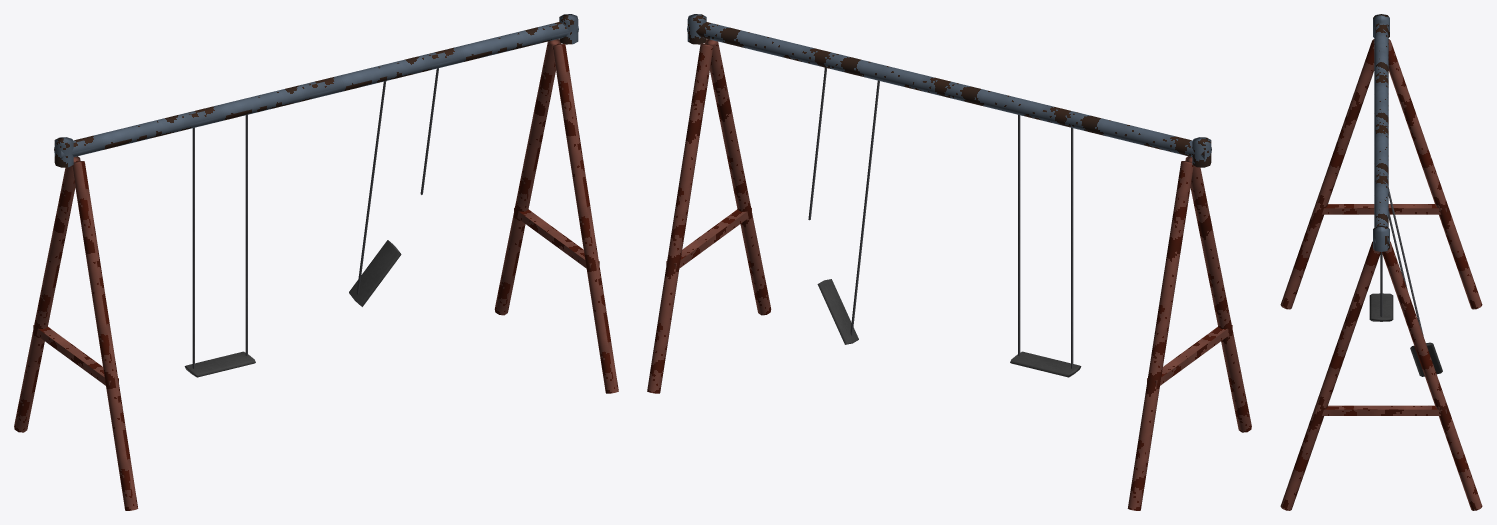
The model's file is swing_set.glb.
3 renders of one model, left to right at view 1: azimuth 30°, elevation 25°; view 2: azimuth 150°, elevation 25°; view 3: azimuth 270°, elevation 25°, orthographic. The views are drawn at different scales.
Visible parts, largest first — view 1: frame-col, detail; view 2: frame-col, detail; view 3: frame-col, detail.
Part boxes in pixels (left/top/right/bottom): frame-col: left=14, top=14, right=618, bottom=510; detail: left=184, top=68, right=438, bottom=377; frame-col: left=647, top=14, right=1251, bottom=510; detail: left=808, top=67, right=1081, bottom=377; frame-col: left=1280, top=14, right=1482, bottom=510; detail: left=1369, top=188, right=1442, bottom=376.
Size of what is drawn, in the model's own units: 4.34 by 2.66 by 1.7.
Materials: 5 (5 with a texture image).
